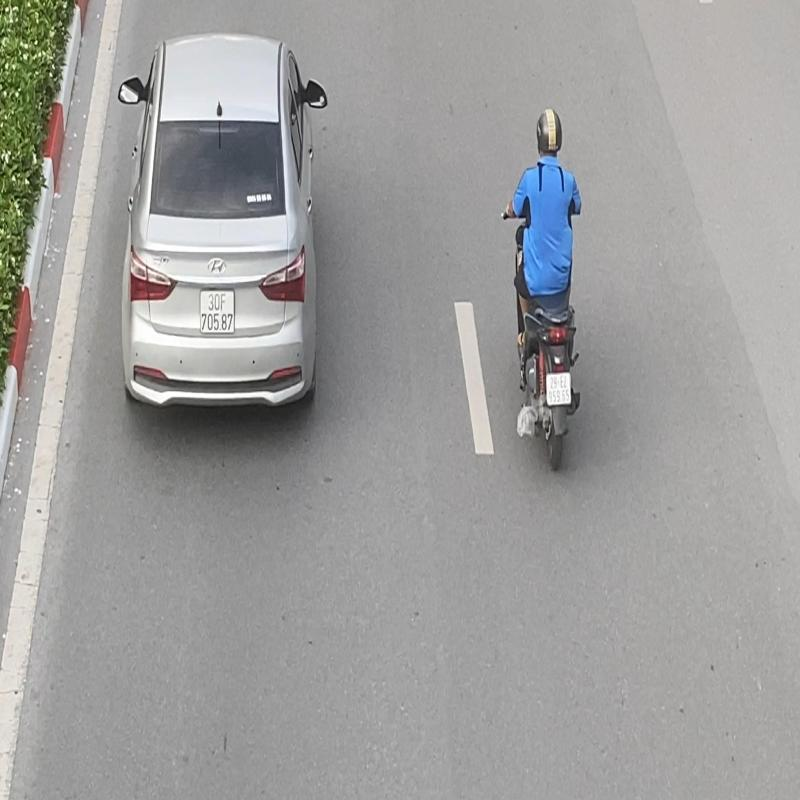helmet: (537, 110, 562, 158)
licenseplate: (546, 374, 572, 404)
motorcyclist: (500, 107, 588, 472)
